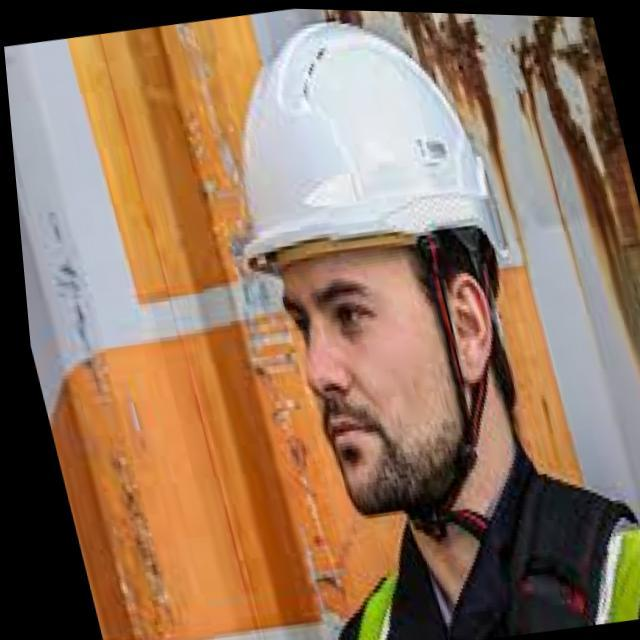Helmet: (236, 19, 511, 522)
